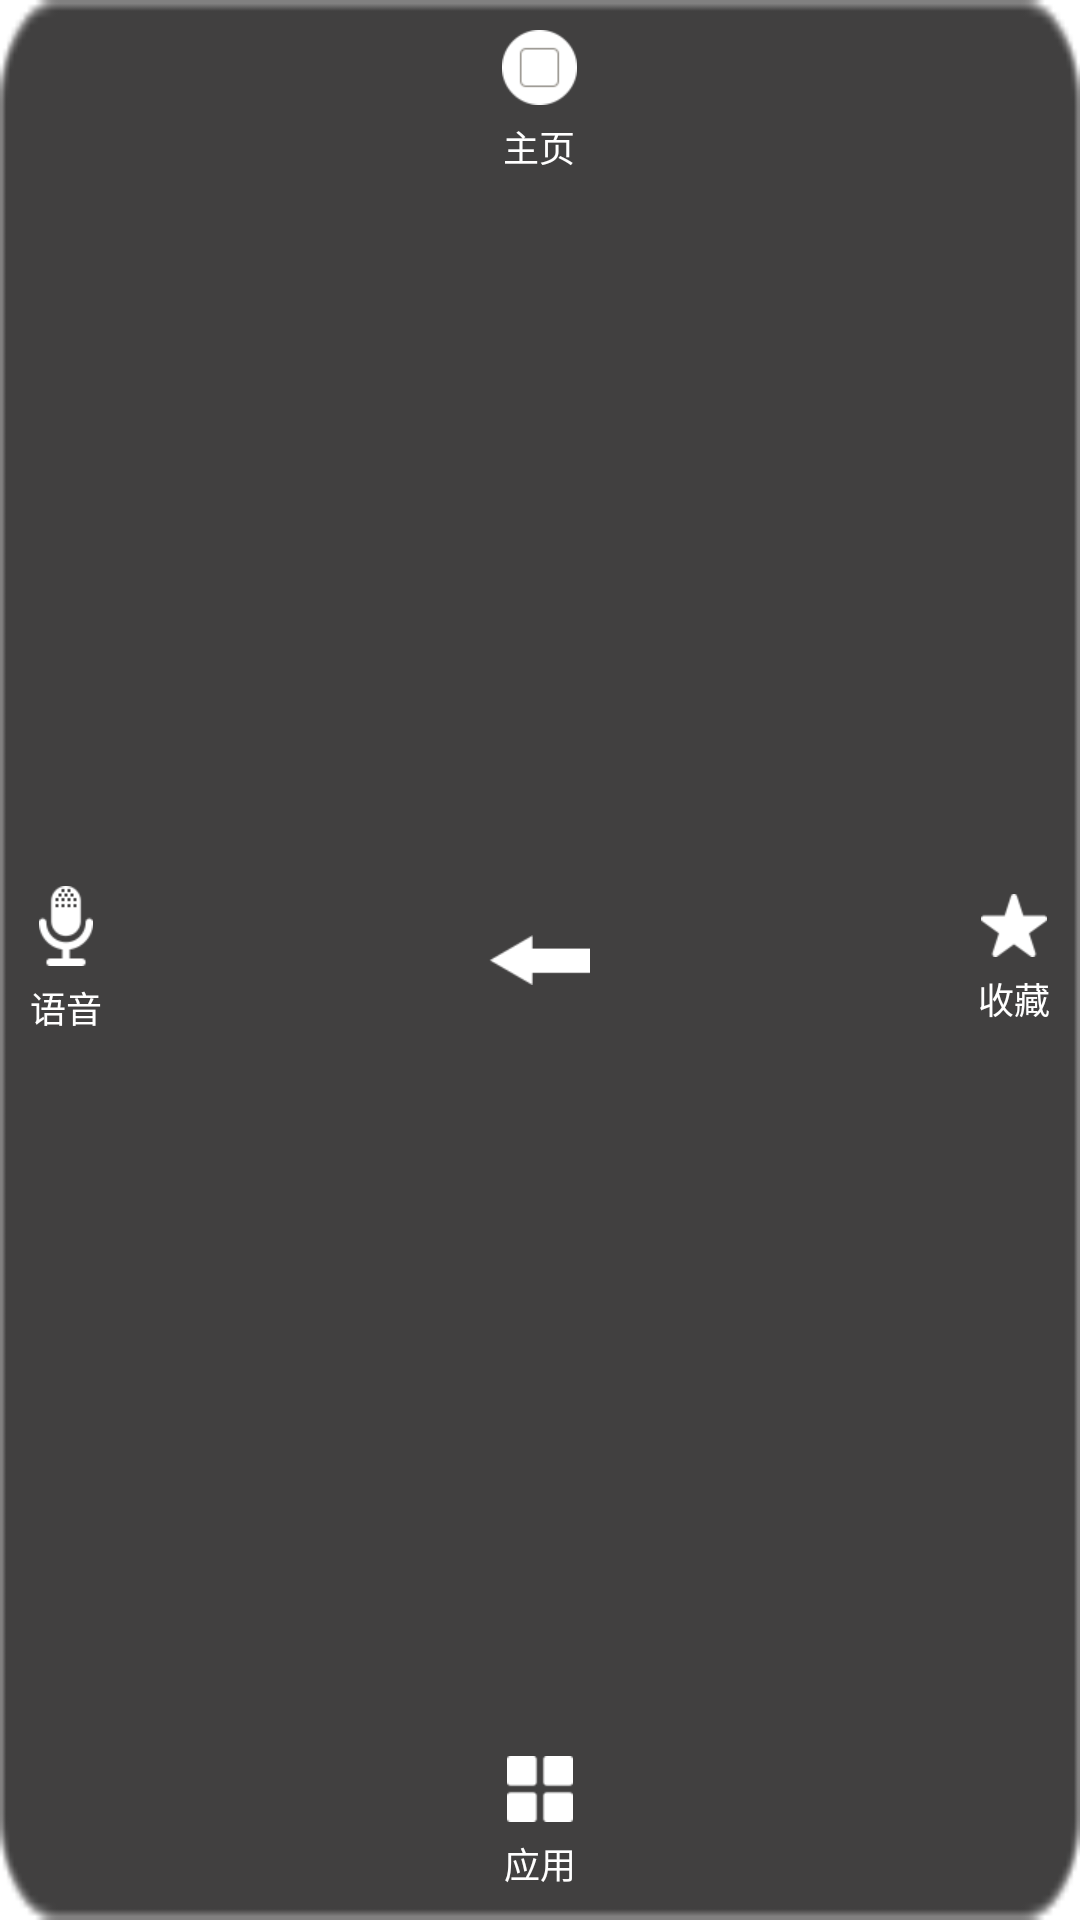

Named icons in this screenshot (1080*1920) and their centers, (x=x, y=y):
back: (x=540, y=960)
